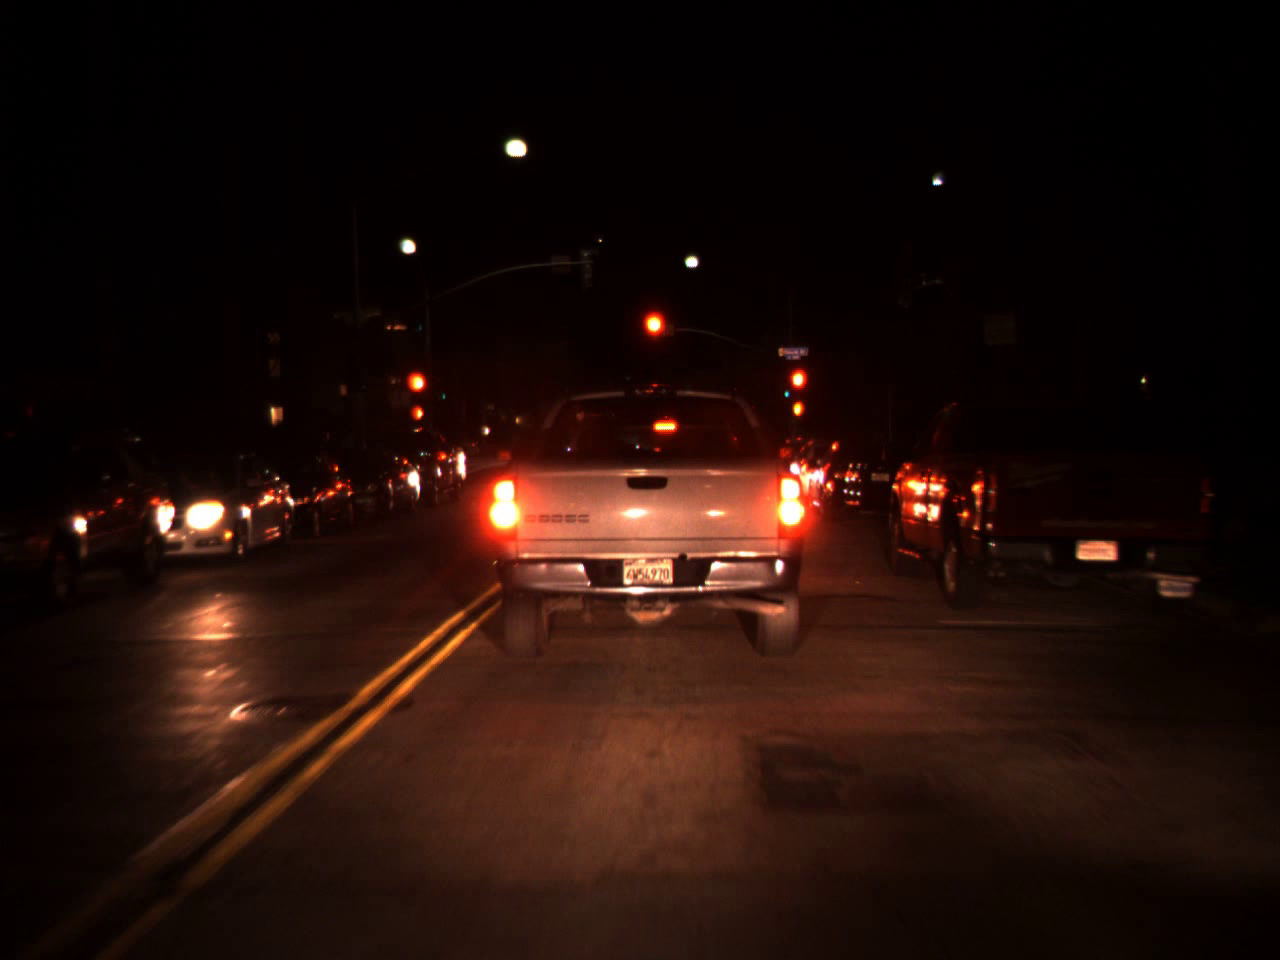stop: (640, 307, 668, 369), (404, 369, 429, 417), (787, 365, 809, 413)
